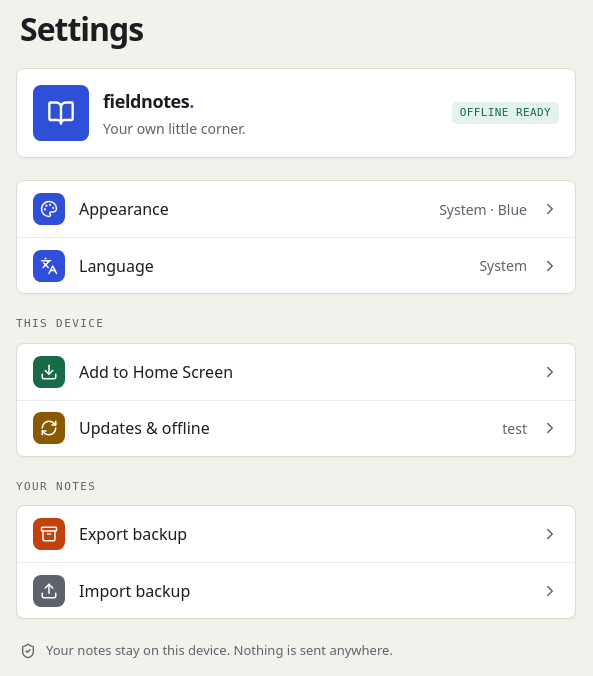
given the Settings hub › when opening a row › should show the Export backup page
The width and height of the screenshot is (593, 676).
Click the link "Export backup".
click(49, 534)  # box x1=33 y1=518 x2=559 y2=550
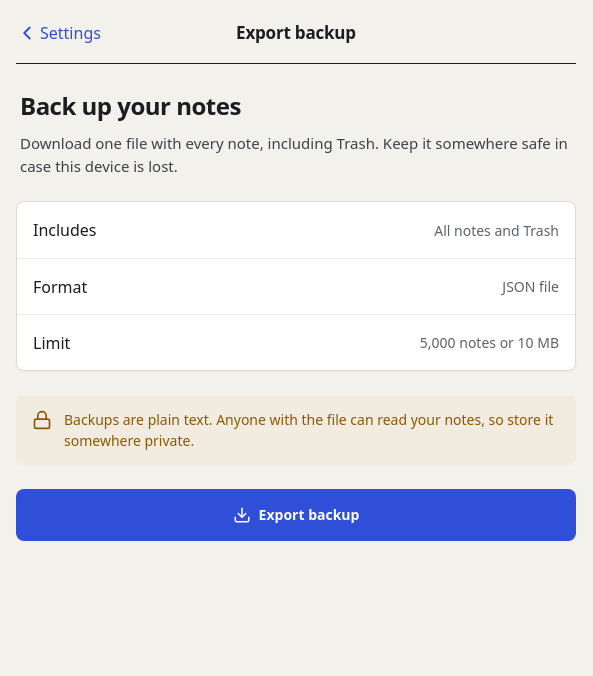
Now the heading "Back up your notes" is shown, box x1=20 y1=89 x2=241 y2=122
